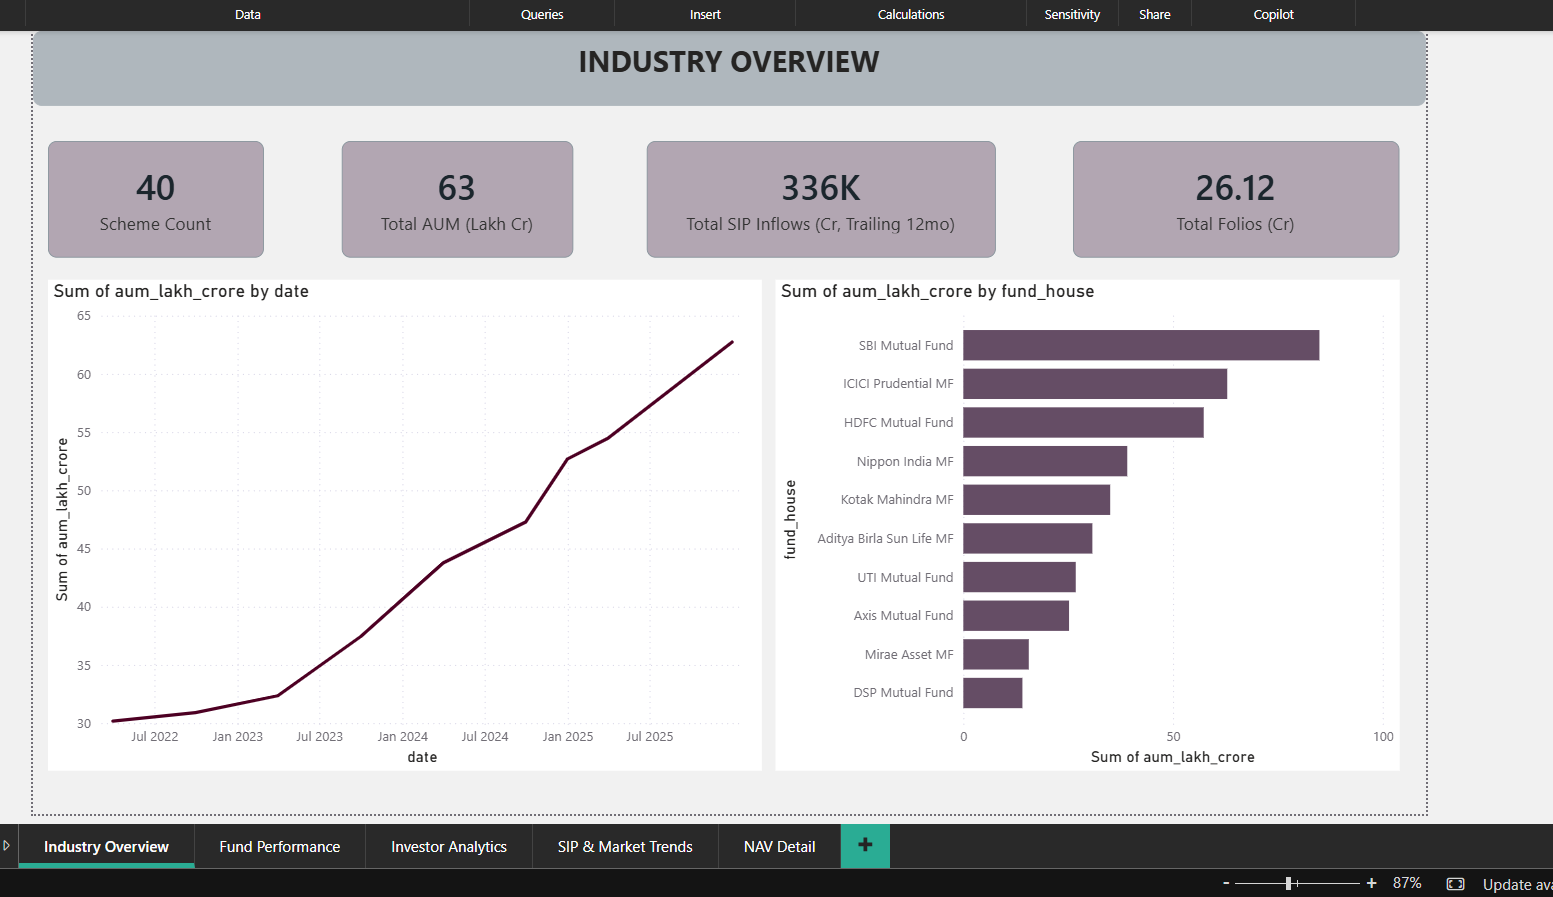

This screenshot's page, from the dashboard's own definition file:
{"tool":"powerbi","page":{"name":"Industry Overview","canvas":[1280,720],"ordinal":0},"visuals":[{"type":"cardVisual","fields":{"Data":["01_fund_master.Scheme Count"]},"box":[13.8,101.1,198.7,106.8],"z":0},{"type":"cardVisual","fields":{"Data":["03_aum_by_fund_house.Total AUM (Cr)"]},"box":[283.7,101.1,212.5,106.8],"z":1000},{"type":"cardVisual","fields":{"Data":["04_monthly_sip_inflows.Total SIP Inflows (Cr, Trailing 12mo)"]},"box":[564,101.1,320.5,106.8],"z":2000},{"type":"cardVisual","fields":{"Data":["06_industry_folio_count.Total Folios (Cr)"]},"box":[955.7,101.1,299.8,106.8],"z":3000},{"type":"lineChart","title":"Industry AUM Trend (2022–2025)","fields":{"Y":["Sum(03_aum_by_fund_house.aum_lakh_crore)"],"Category":["03_aum_by_fund_house.date"]},"box":[13.8,228.6,655.9,451.4],"z":4000},{"type":"clusteredBarChart","title":"AUM by AMC","fields":{"Category":["03_aum_by_fund_house.fund_house"],"Y":["Sum(03_aum_by_fund_house.aum_lakh_crore)"]},"box":[682.3,228.6,573.2,451.4],"z":5000},{"type":"textbox","box":[0,0,1279.6,68.9],"z":6000}]}

Visuals, with their boxes on the page's 1280x720 design canvas (x1, y1, x2, y2). These are canvas units, not pixel positions in the 1553x897 screenshot, which may show the page scaled, cropped or inside an application window:
cardVisual - 01_fund_master.Scheme Count: <bbox>14, 101, 212, 208</bbox>
cardVisual - 03_aum_by_fund_house.Total AUM (Cr): <bbox>284, 101, 496, 208</bbox>
cardVisual - 04_monthly_sip_inflows.Total SIP Inflows (Cr, Trailing 12mo): <bbox>564, 101, 884, 208</bbox>
cardVisual - 06_industry_folio_count.Total Folios (Cr): <bbox>956, 101, 1256, 208</bbox>
"Industry AUM Trend (2022–2025)" lineChart: <bbox>14, 229, 670, 680</bbox>
"AUM by AMC" clusteredBarChart: <bbox>682, 229, 1256, 680</bbox>
textbox: <bbox>0, 0, 1280, 69</bbox>
